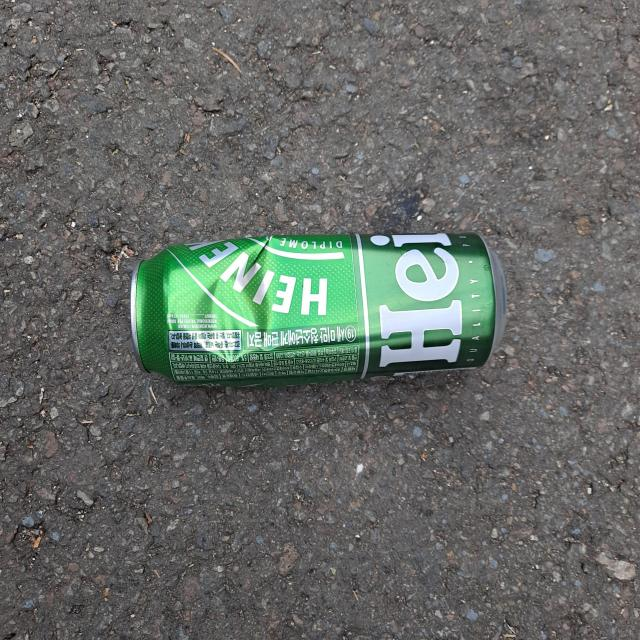can: (131, 233, 507, 387)
